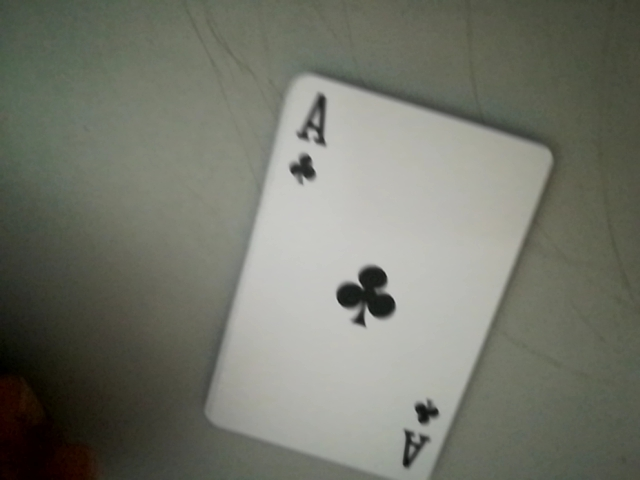mh a: (277, 80, 336, 197), (395, 391, 449, 480)
